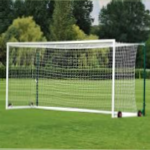goals: (3, 39, 140, 120)
